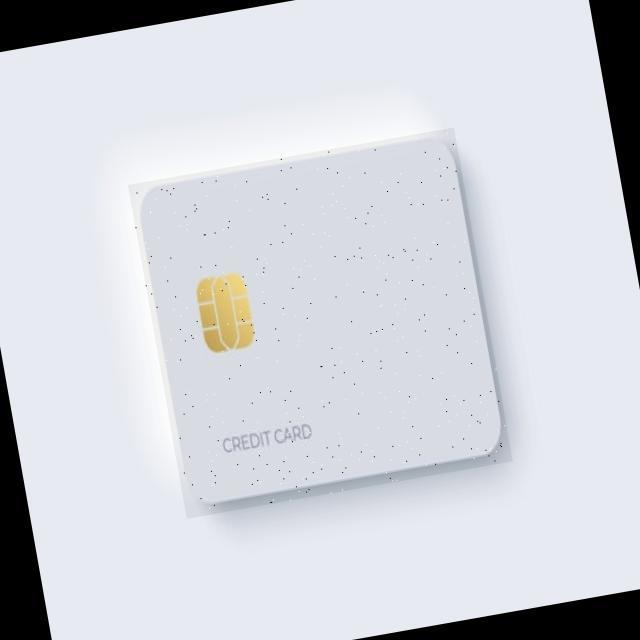payment_card: (126, 126, 504, 517)
